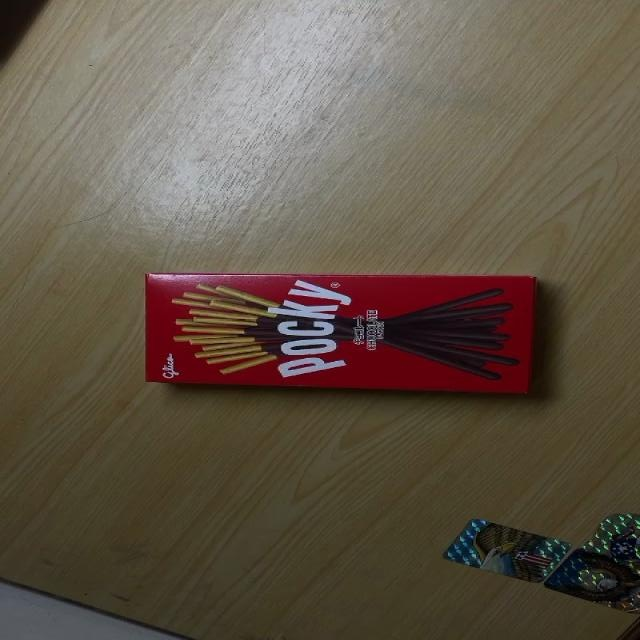Pocky: (141, 274, 538, 395)
